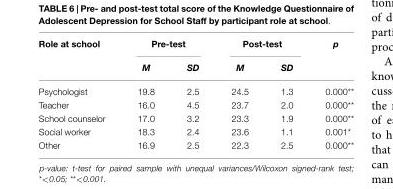table: (37, 37, 353, 149)
table column: (37, 37, 120, 149), (120, 37, 170, 149), (214, 37, 263, 149), (263, 37, 308, 149), (308, 37, 353, 149), (170, 37, 214, 149)
table column header: (37, 37, 353, 78)
table row: (37, 54, 353, 78), (37, 78, 353, 97), (37, 37, 353, 54), (37, 110, 353, 124), (37, 97, 353, 110), (37, 124, 353, 137), (37, 137, 353, 149)
table spanning cell: (37, 37, 120, 78), (308, 37, 353, 78), (120, 37, 214, 54), (214, 37, 308, 54)
